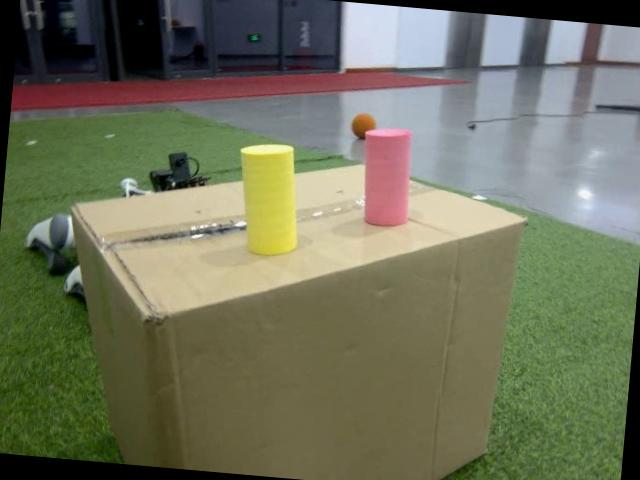orange_ball: (348, 112, 377, 140)
red_cylinder: (355, 123, 420, 229)
yellow_cylinder: (229, 138, 310, 259)
